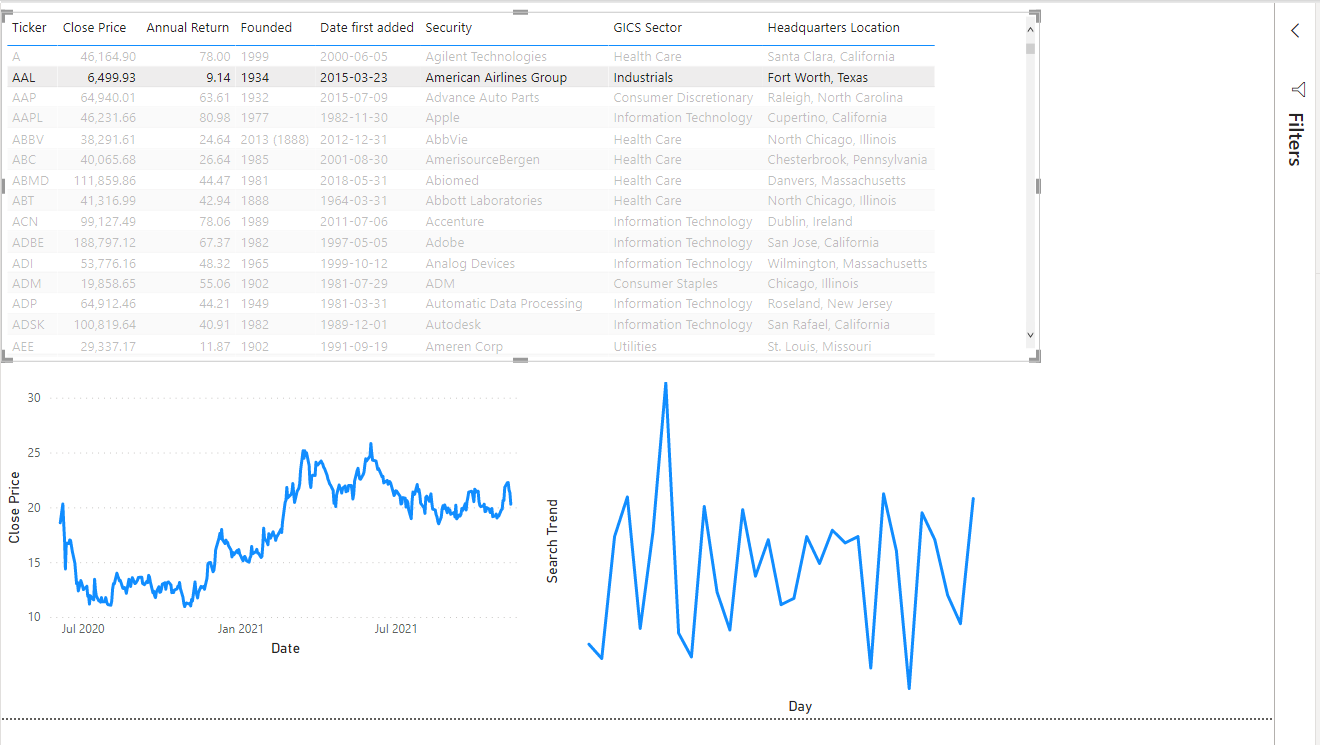

The dashboard page shown, as its layout file describes it:
{"tool":"powerbi","page":{"name":"Page 1","canvas":[1280,720],"ordinal":0},"visuals":[{"type":"lineChart","fields":{"Y":["Sum(HackUTDPowerBI.close)"],"Category":["HackUTDPowerBI.datetime"]},"box":[0,382.2,541.9,280.4],"z":0},{"type":"tableEx","fields":{"Values":["Symbols-info-annual.Ticker","Sum(HackUTDPowerBI.close)","Symbols-info-annual.Annual Return","Symbols-info-annual.Founded","Symbols-info-annual.Date first added","Symbols-info-annual.Security","Symbols-info-annual.GICS Sector","Symbols-info-annual.Headquarters Location"]},"box":[0,8.6,1045,352],"z":1000},{"type":"lineChart","fields":{"Category":["AALsearchTrend.date.Variation.Date Hierarchy.Day"],"Y":["Sum(AALsearchTrend.Group)"]},"box":[541.9,368.4,502.9,352.1],"z":2000}]}

Visuals, with their boxes on the page's 1280x720 design canvas (x1, y1, x2, y2). These are canvas units, not pixel positions in the 1320x745 screenshot, which may show the page scaled, cropped or inside an application window:
lineChart - Sum(HackUTDPowerBI.close) x HackUTDPowerBI.datetime: 0 382 542 663
tableEx - Symbols-info-annual.Ticker x Sum(HackUTDPowerBI.close): 0 9 1045 361
lineChart - AALsearchTrend.date.Variation.Date Hierarchy.Day x Sum(AALsearchTrend.Group): 542 368 1045 720
